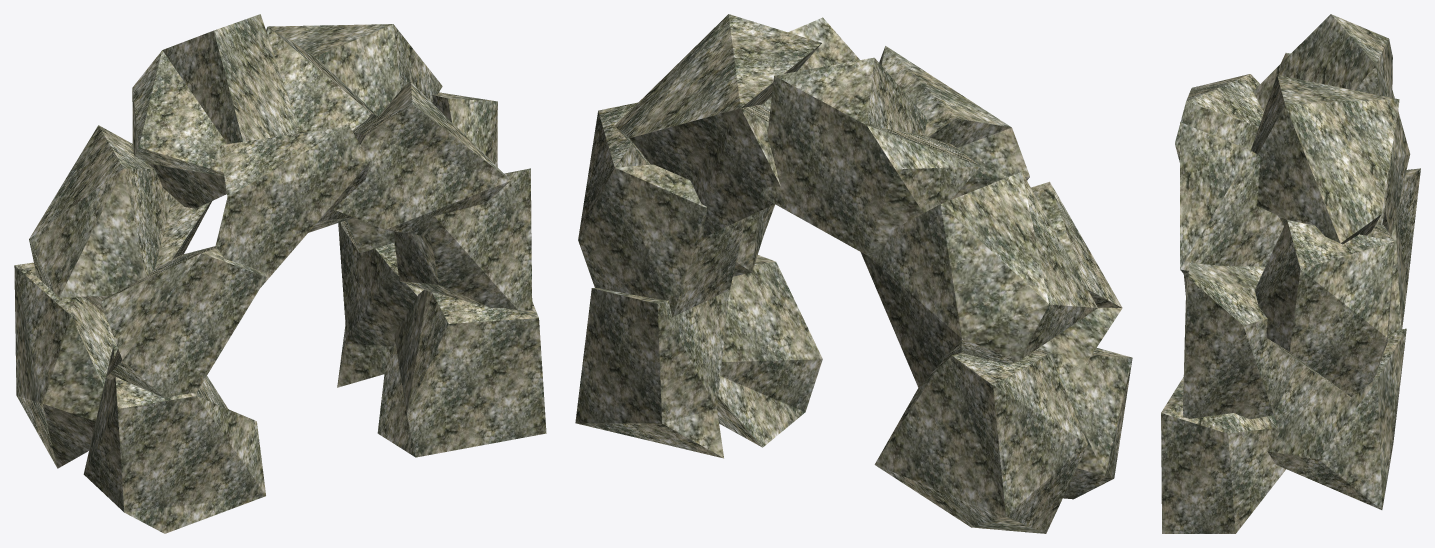
Rendered from caveEntrance.obj.
The picture shows the model from 3 angles, left to right: view 1: azimuth 30°, elevation 25°; view 2: azimuth 150°, elevation 25°; view 3: azimuth 270°, elevation 25°; orthographic projection. The views are drawn at different scales.
Parts seen in each view (by area): view 1: caveEntrance; view 2: caveEntrance; view 3: caveEntrance.
Part boxes in pixels (<box>): caveEntrance: <box>14,14,546,533</box>; caveEntrance: <box>575,14,1132,533</box>; caveEntrance: <box>1161,14,1420,533</box>.
Bounding box in the file's own units: 2 × 1.8 × 1.
1 material, 1 textured.
